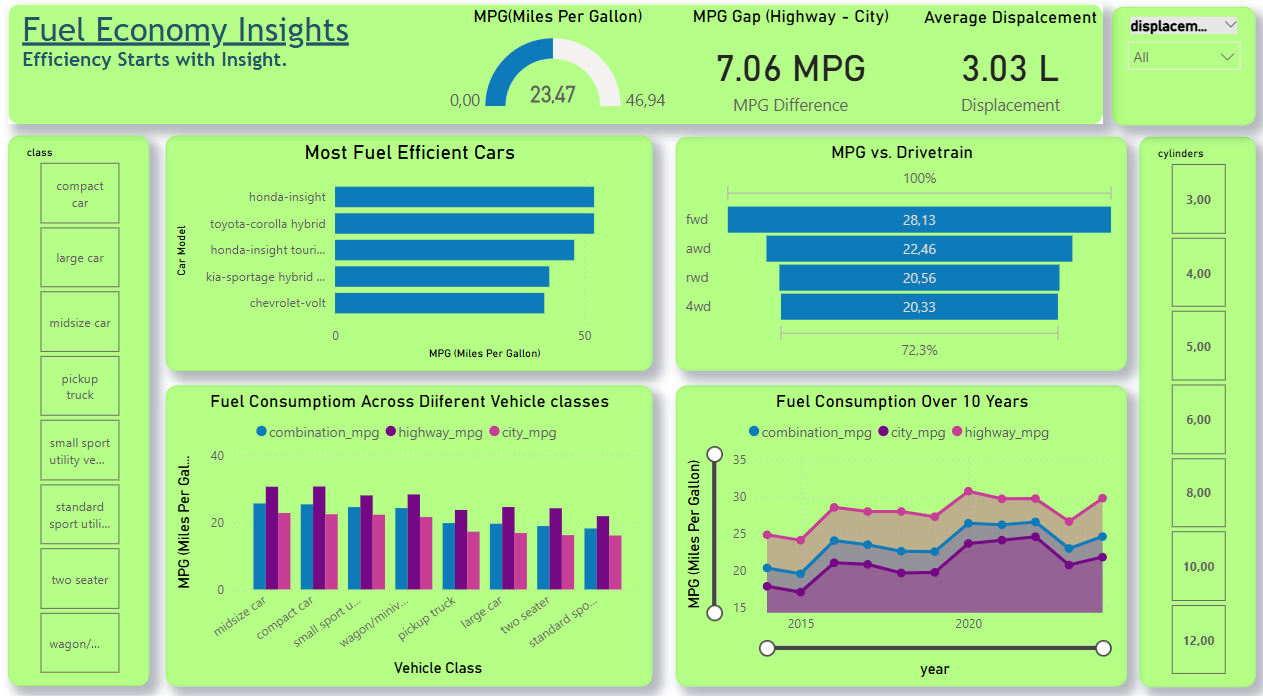

This screenshot's page, from the dashboard's own definition file:
{"tool":"powerbi","page":{"name":"Page 1","canvas":[1280,720],"ordinal":0},"visuals":[{"type":"shape","box":[39.8,30.2,1056.8,115.8],"z":0},{"type":"clusteredBarChart","title":"Most Fuel Efficient Cars","fields":{"Category":["cleaned_car_data.Make_Model"],"Y":["Avg(cleaned_car_data.combination_mpg)"]},"box":[191.8,156.8,469.3,226.8],"z":1000},{"type":"gauge","fields":{"Y":["Avg(cleaned_car_data.combination_mpg)"]},"box":[456,31.4,228,114.6],"z":2000},{"type":"lineChart","title":"Fuel Consumption Over 10 Years","fields":{"Y":["Avg(cleaned_car_data.combination_mpg)","Avg(cleaned_car_data.city_mpg)","Avg(cleaned_car_data.highway_mpg)"],"Category":["cleaned_car_data.year"]},"box":[684.1,398.1,435.5,290.8],"z":3000},{"type":"funnel","title":"MPG vs. Drivetrain","fields":{"Category":["cleaned_car_data.drive"],"Y":["Avg(cleaned_car_data.combination_mpg)"]},"box":[684.1,158,435.5,225.6],"z":4000},{"type":"card","title":"MPG Gap (Highway - City)","fields":{"Values":["cleaned_car_data.MPG Difference"]},"box":[684.1,31.4,222,115.8],"z":5000},{"type":"slicer","fields":{"Values":["cleaned_car_data.class"]},"box":[39.8,156.8,136.3,530.8],"z":6000},{"type":"slicer","fields":{"Values":["cleaned_car_data.cylinders"]},"box":[1131.6,158,112.2,530.8],"z":7000},{"type":"slicer","fields":{"Values":["cleaned_car_data.displacement"]},"box":[1105.1,32.6,138.7,114.6],"z":8000},{"type":"textbox","box":[48.3,30.2,387.3,115.8],"z":9000},{"type":"clusteredColumnChart","title":"Fuel Consumptiom Across Diiferent Vehicle classes","fields":{"Category":["cleaned_car_data.class"],"Y":["Avg(cleaned_car_data.combination_mpg)","Avg(cleaned_car_data.highway_mpg)","Avg(cleaned_car_data.city_mpg)"]},"box":[191.8,398.1,469.3,290.8],"z":10000},{"type":"card","title":"Average Dispalcement","fields":{"Values":["cleaned_car_data.Average Displacement by Class"]},"box":[918.1,32.6,178.6,113.4],"z":11000}]}

Visuals, with their boxes in screenshot pixels (x1, y1, x2, y2), scaled from the page's 1280x720 canvas onto the 1263x696 screenshot:
shape: locate(39, 29, 1082, 141)
"Most Fuel Efficient Cars" clusteredBarChart: locate(189, 152, 652, 371)
gauge - Avg(cleaned_car_data.combination_mpg): locate(450, 30, 675, 141)
"Fuel Consumption Over 10 Years" lineChart: locate(675, 385, 1105, 666)
"MPG vs. Drivetrain" funnel: locate(675, 153, 1105, 371)
"MPG Gap (Highway - City)" card: locate(675, 30, 894, 142)
slicer - cleaned_car_data.class: locate(39, 152, 174, 665)
slicer - cleaned_car_data.cylinders: locate(1117, 153, 1227, 666)
slicer - cleaned_car_data.displacement: locate(1090, 32, 1227, 142)
textbox: locate(48, 29, 430, 141)
"Fuel Consumptiom Across Diiferent Vehicle classes" clusteredColumnChart: locate(189, 385, 652, 666)
"Average Dispalcement" card: locate(906, 32, 1082, 141)
